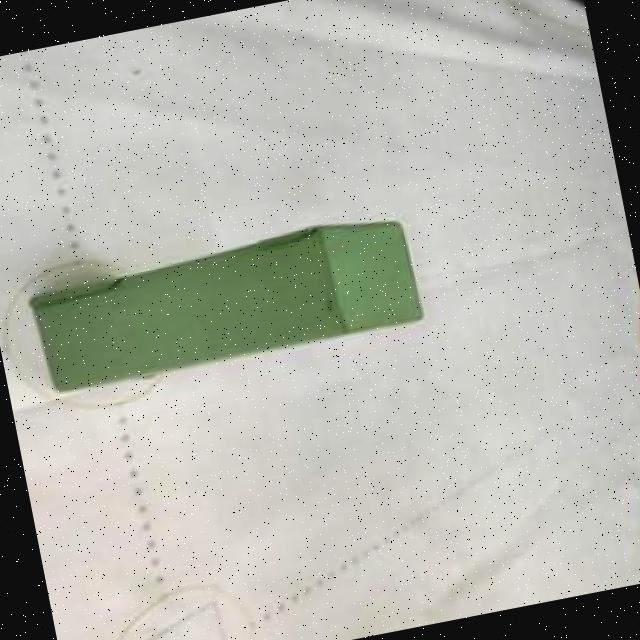greenbox: (24, 206, 425, 402)
